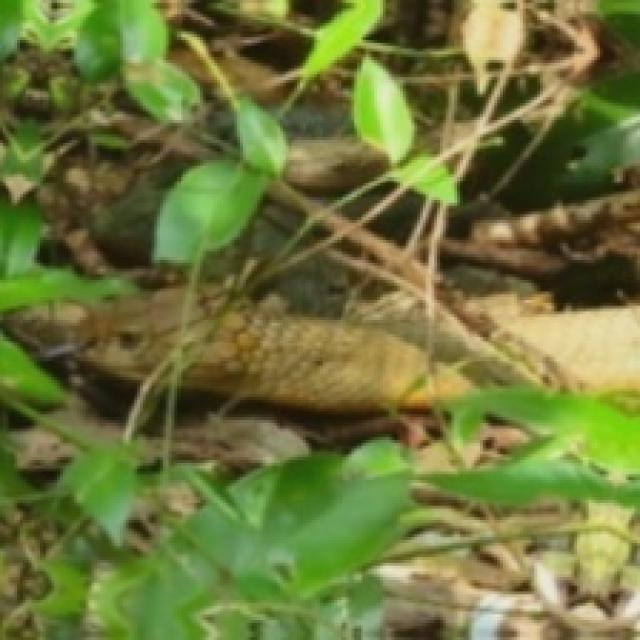king cobra: (183, 269, 637, 411), (6, 286, 180, 386)
